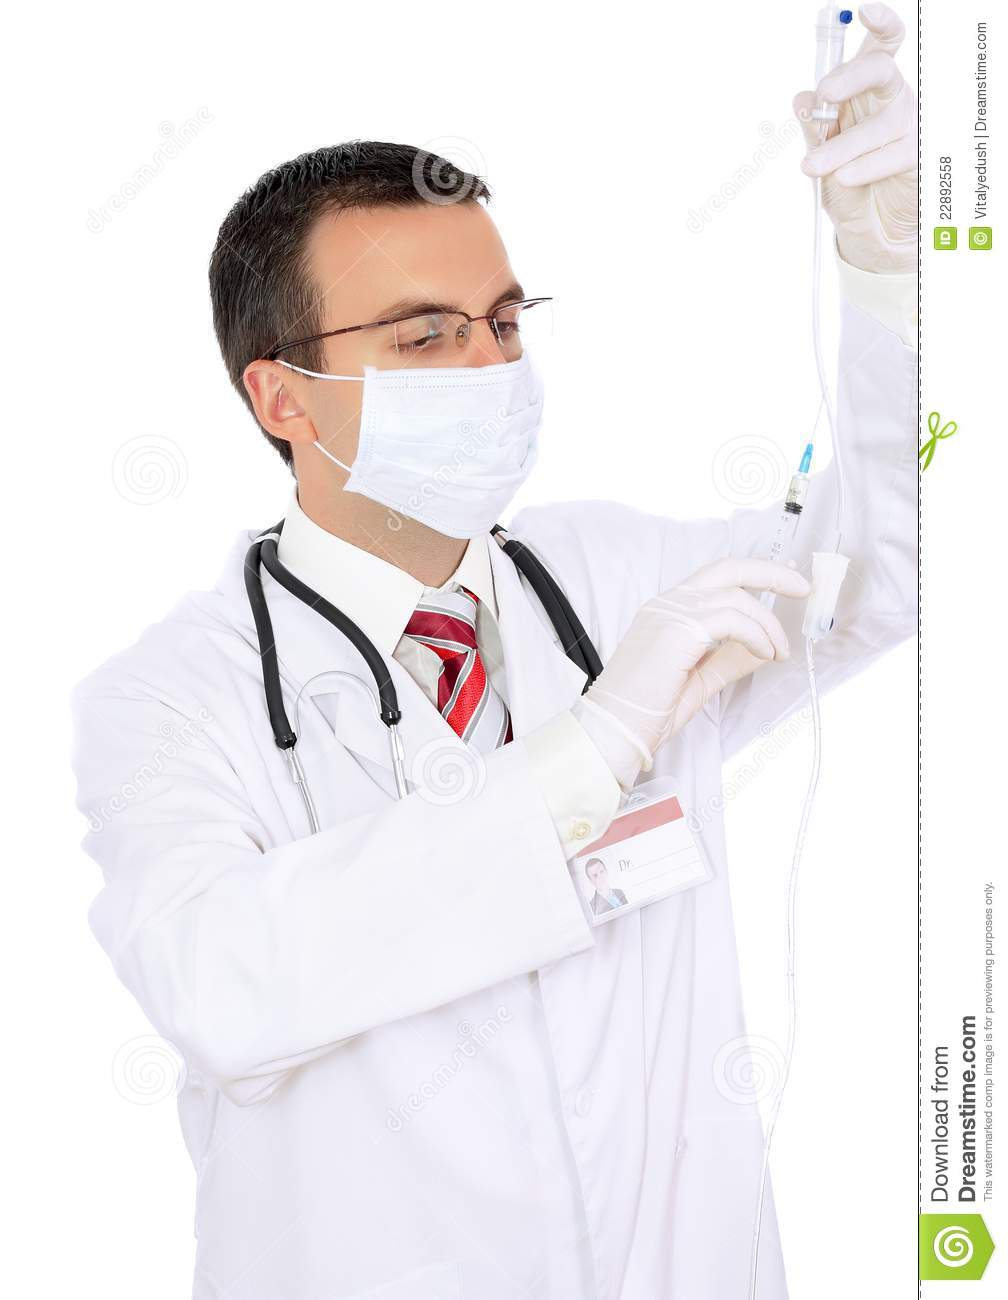mask: (338, 365, 560, 535)
